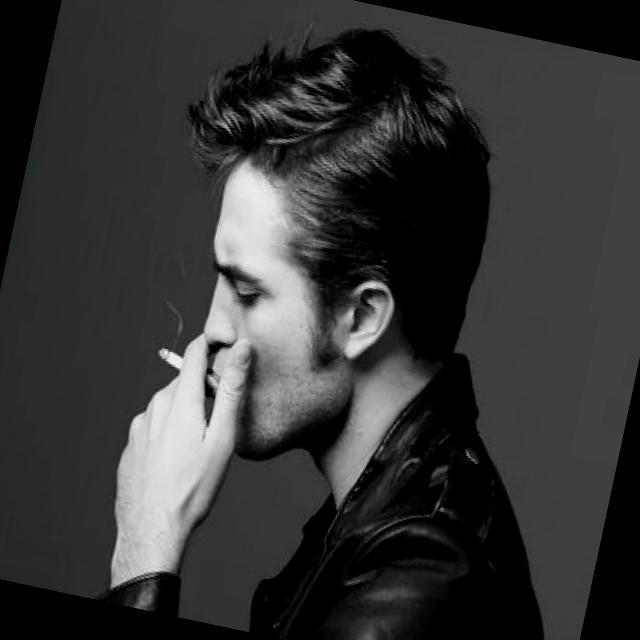smoke: (146, 338, 230, 393)
